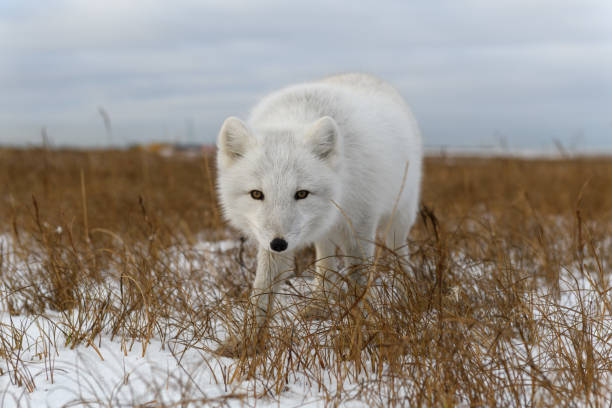arcticfox: (220, 131, 339, 265)
